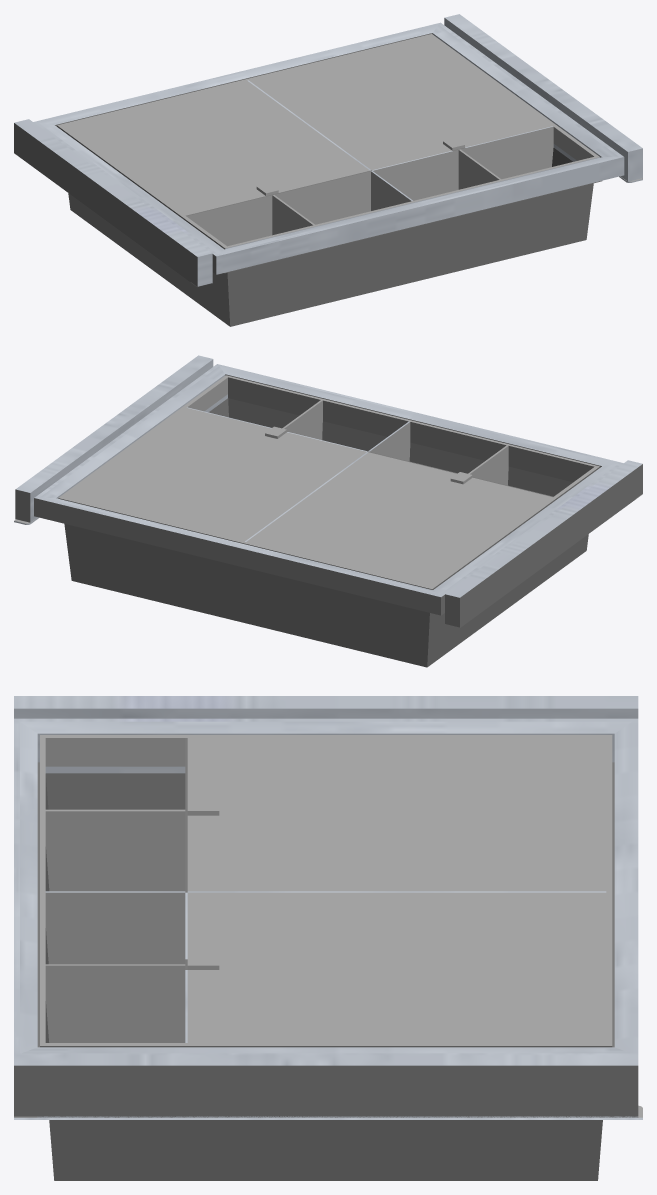
The model's file is JP-drawer-underwear-b.glb.
The picture shows the model from 3 angles, top to bottom: view 1: azimuth 30°, elevation 25°; view 2: azimuth 150°, elevation 25°; view 3: azimuth 270°, elevation 25°; orthographic projection. The views are drawn at different scales.
Visible parts, largest first — view 1: Geom3D (×3), Geom3D_; view 2: Geom3D (×3), Geom3D_; view 3: Geom3D_, Geom3D (×3).
Part boxes in pixels (x1,y1,x2,y2): Geom3D (×3): (14, 14, 642, 326); Geom3D_: (63, 36, 642, 287); Geom3D (×3): (14, 355, 642, 667); Geom3D_: (14, 400, 642, 586); Geom3D_: (14, 738, 642, 1117); Geom3D (×3): (14, 696, 642, 1180).
Size of the model in its own units: 0.6955 by 0.1334 by 0.5.
3 materials, 1 textured.
